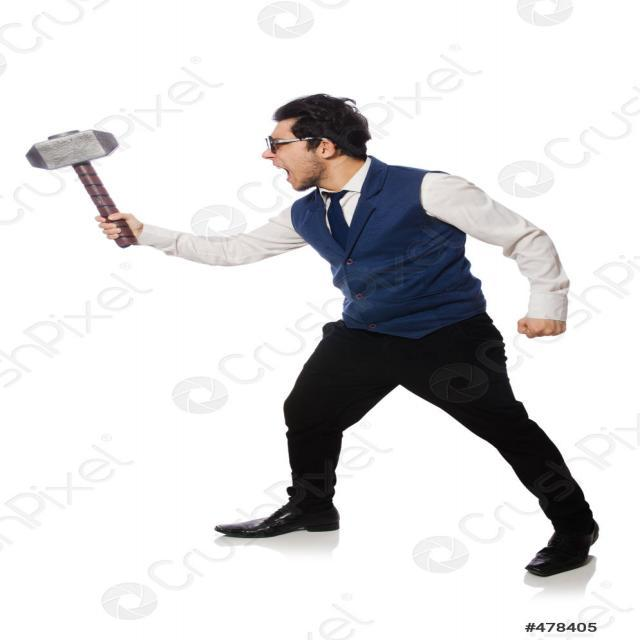hammer: (17, 109, 163, 263)
